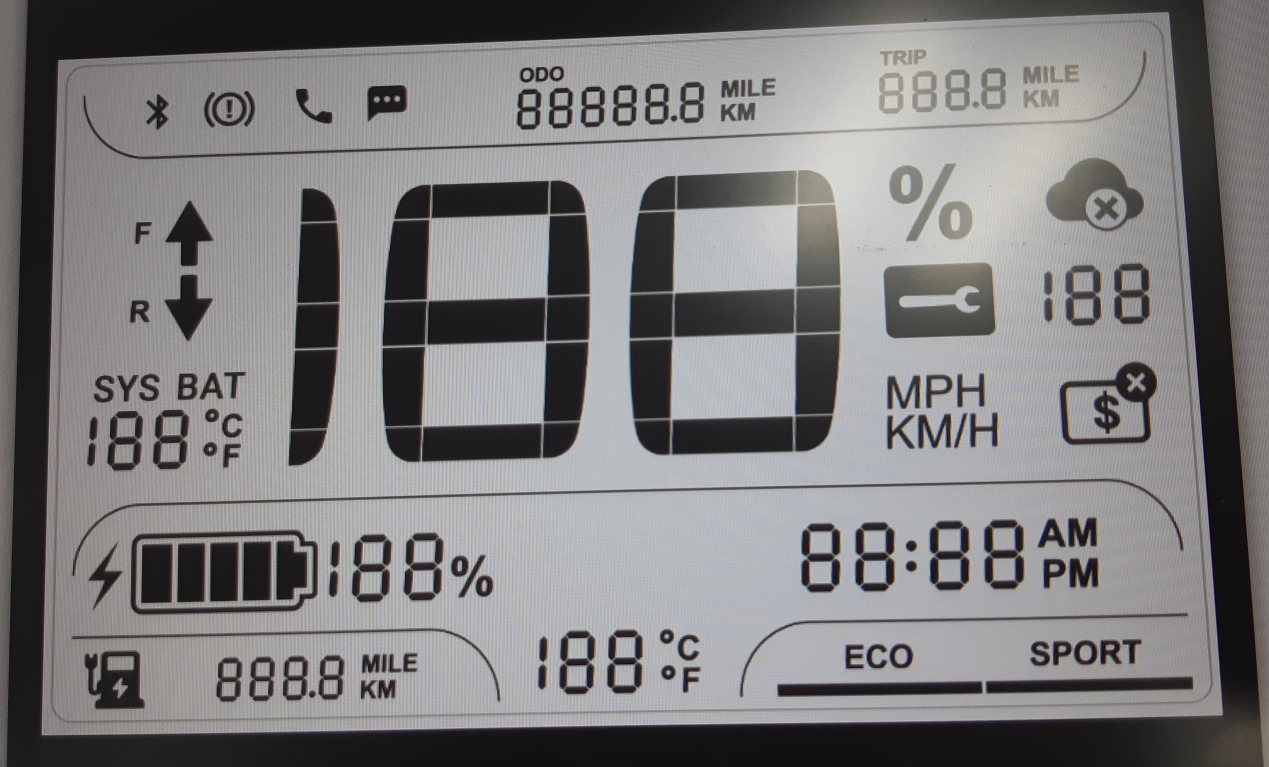bluetooth_on: (139, 89, 177, 136)
braking_on: (201, 86, 258, 132)
calling_on: (290, 83, 341, 127)
connection_lost: (1038, 154, 1149, 236)
error_code: (878, 260, 1000, 342)
low_battery: (79, 644, 150, 714)
sms_on: (364, 82, 412, 125)
vin_id: (1057, 358, 1161, 450)
